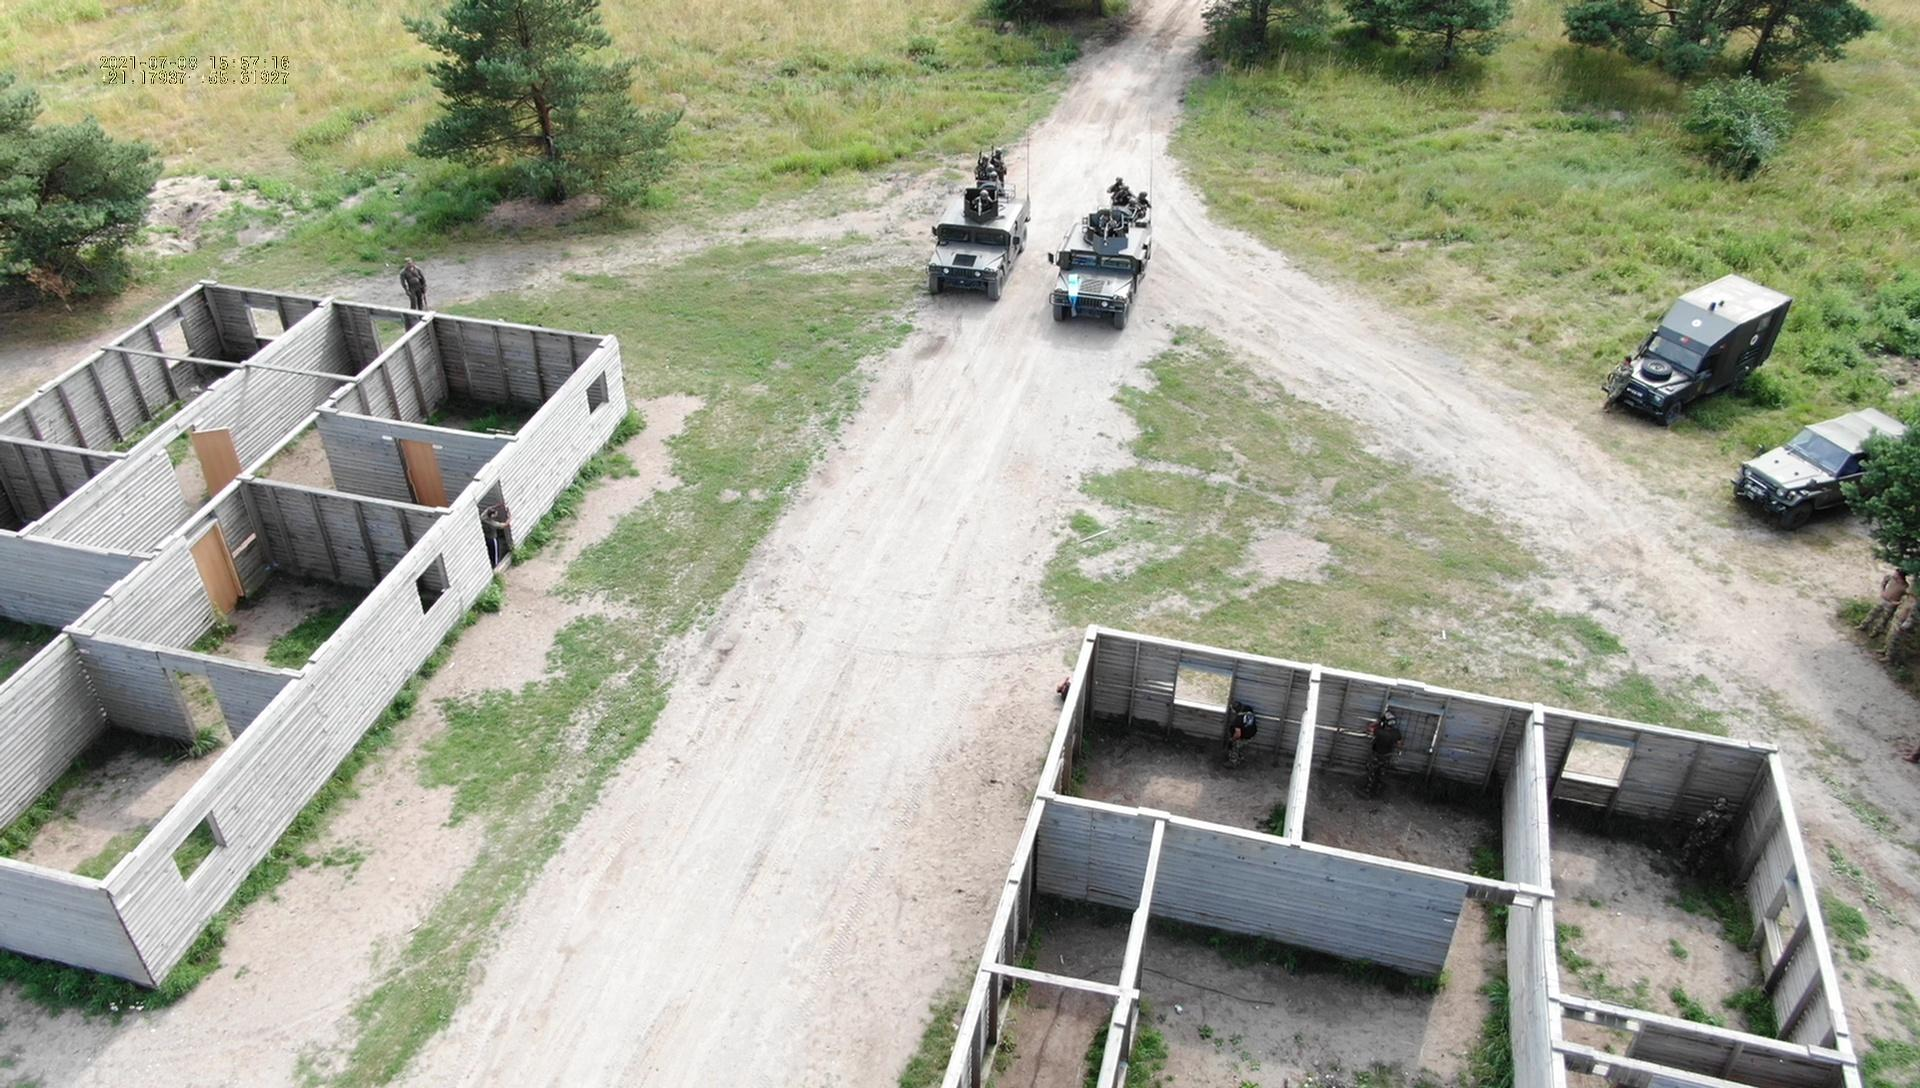Soldier: (1679, 808, 1745, 899), (1358, 713, 1410, 816), (1869, 560, 1905, 650), (1884, 587, 1917, 675), (1602, 355, 1635, 426), (398, 256, 436, 314), (1102, 214, 1131, 248), (1108, 179, 1134, 206), (965, 186, 988, 216), (982, 145, 1006, 167), (976, 158, 998, 175)
